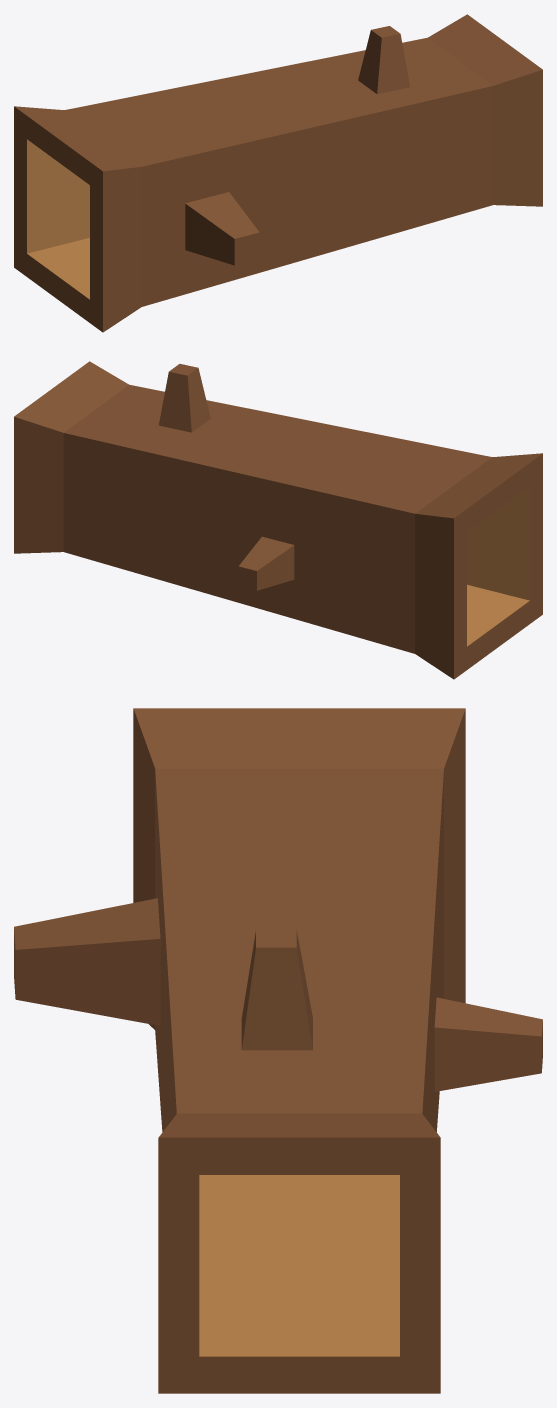
File: kenney_log_large.glb
The picture shows the model from 3 angles, top to bottom: view 1: azimuth 30°, elevation 25°; view 2: azimuth 150°, elevation 25°; view 3: azimuth 270°, elevation 25°; orthographic projection. The views are drawn at different scales.
Visible parts, largest first — view 1: bark, wood; view 2: bark, wood; view 3: bark, wood.
Part boxes in pixels (x1,y1,x2,y2): bark: (14, 14, 542, 332); wood: (27, 139, 89, 299); bark: (14, 361, 542, 679); wood: (467, 486, 529, 646); bark: (14, 708, 542, 1393); wood: (199, 1175, 399, 1356).
Bounding box in the file's own units: 1 × 0.4167 × 0.5493.
